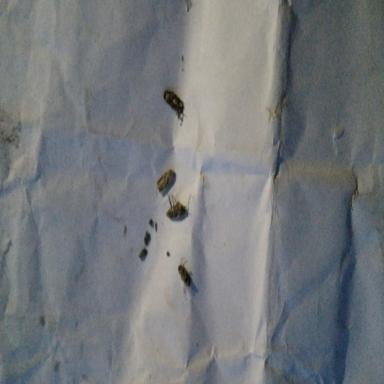pbw: (165, 194, 194, 219), (163, 90, 183, 114), (157, 168, 175, 192), (178, 257, 190, 286)
